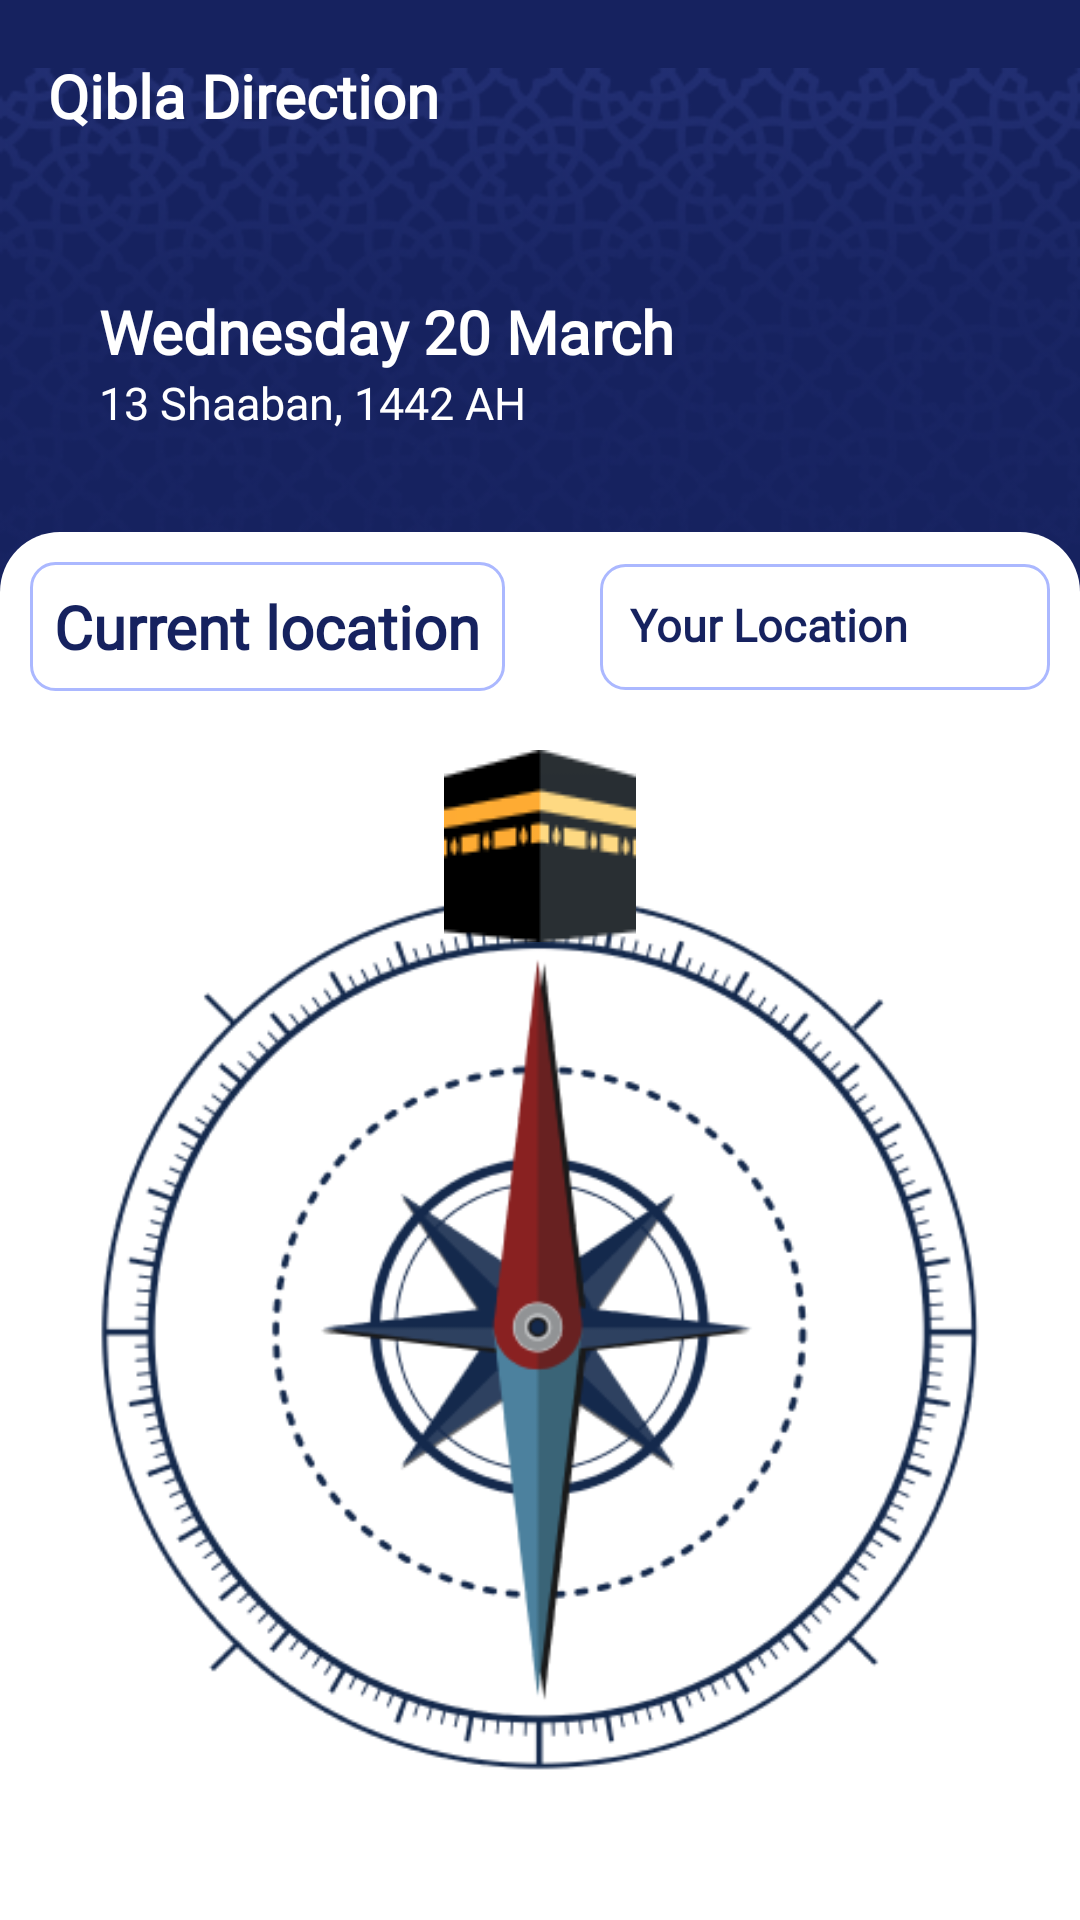

Named icons in this screenshot (1080 × 1920) and their centers, point (x, y):
qibla: point (540, 846)
